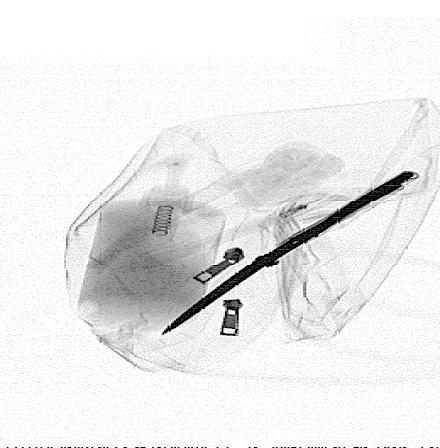Scissors: (157, 168, 421, 339)
